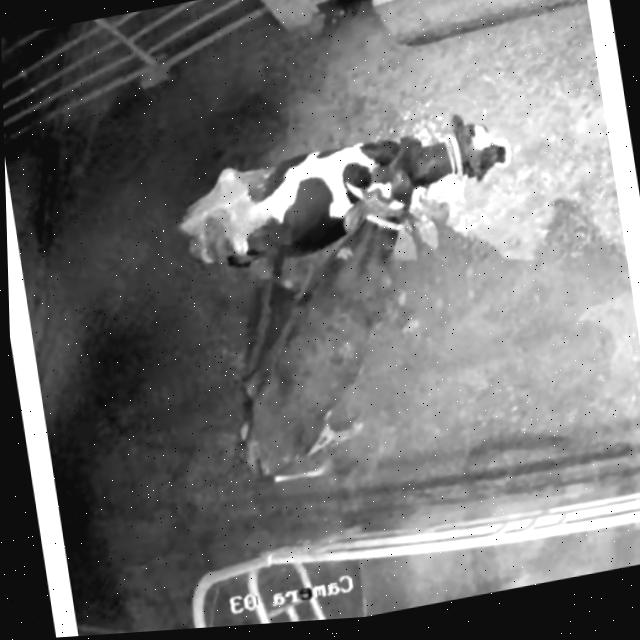propping: (320, 117, 453, 260)
